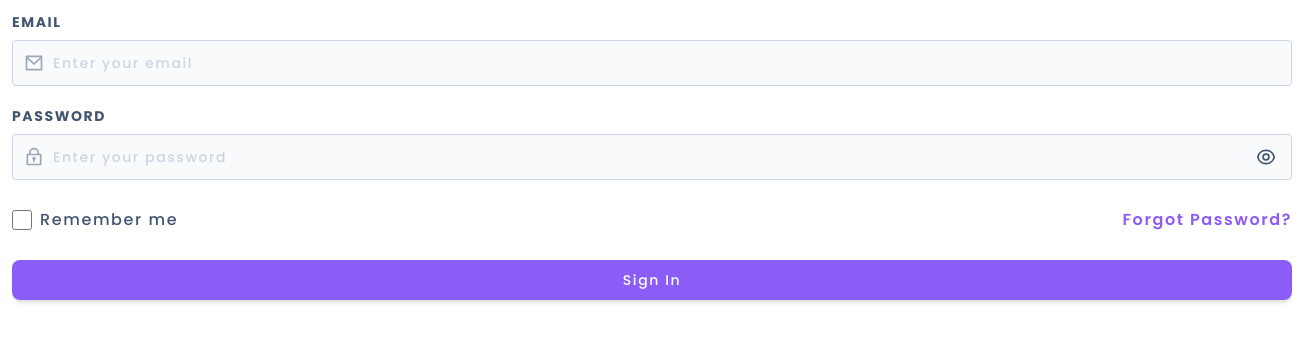
Test case: SigninForm › should display error messages for invalid inputs
Click the button "Sign In": point(652, 280) [12,260,1292,300]
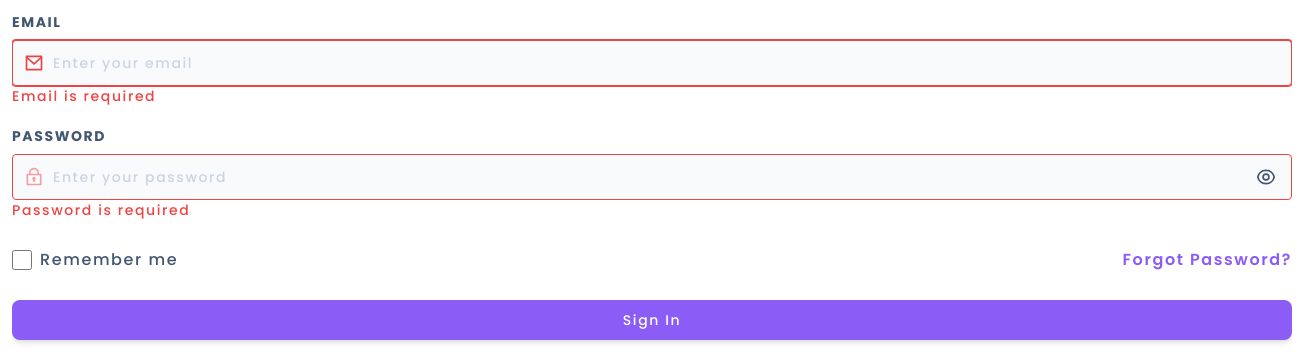
Now the text "Email is required" is shown, box [12,86,156,106]
Now the text "Password is required" is shown, box [12,200,190,220]
In the field labelled "Email": point(652, 63) [12,40,1292,86], type "invalid"
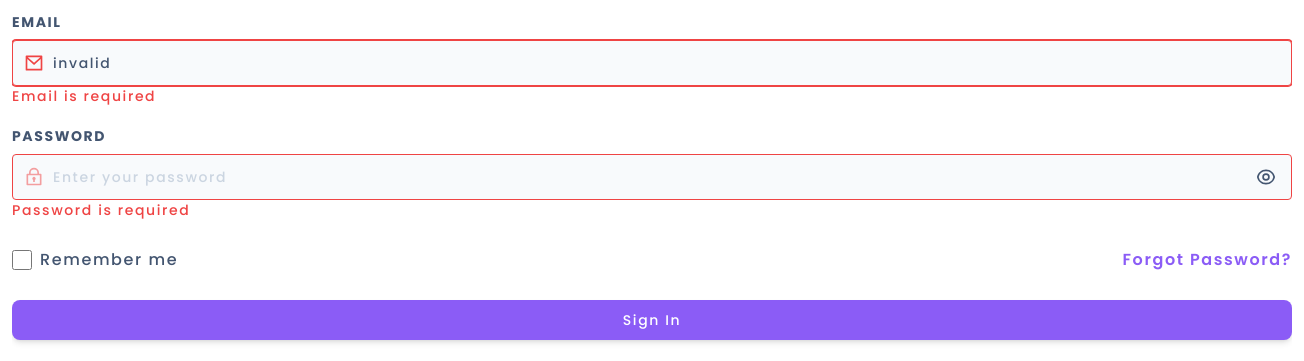
Leave the field labelled "Email", box [12,40,1292,86]
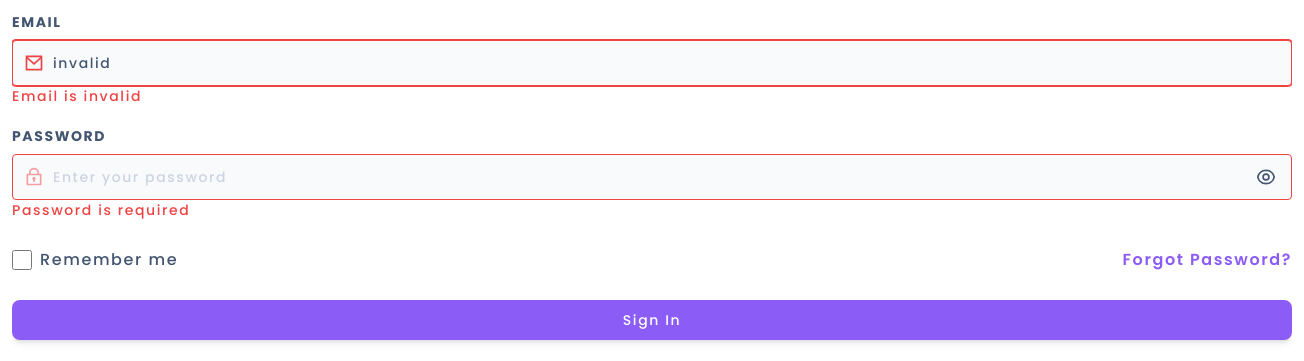
Now the text "Email is invalid" is shown, box [12,86,142,106]
In the password field labelled "Password": point(652, 177) [12,154,1292,200], type "invalid"
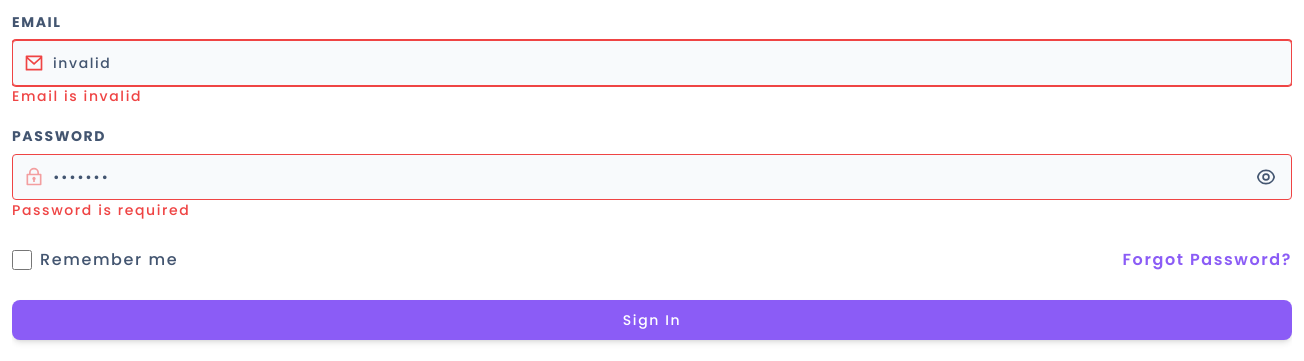
Leave the password field labelled "Password", box [12,154,1292,200]
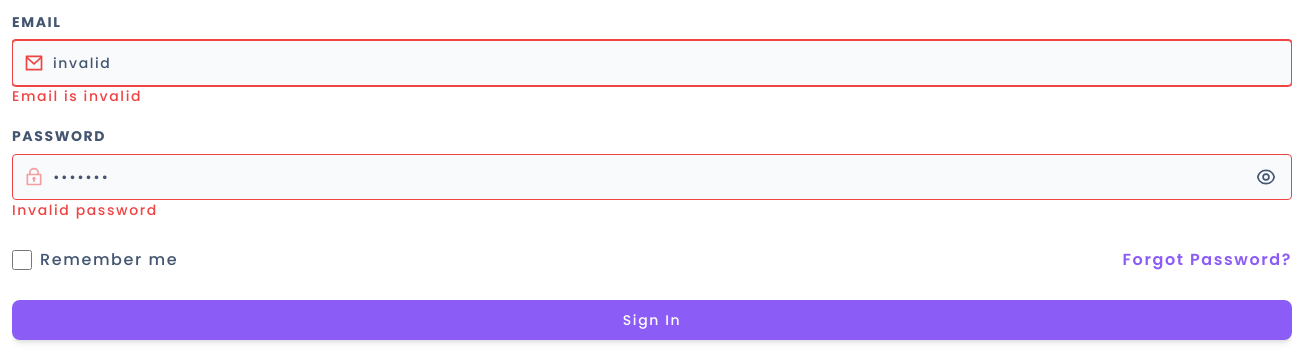
Now the text "Invalid password" is shown, box [12,200,158,220]
